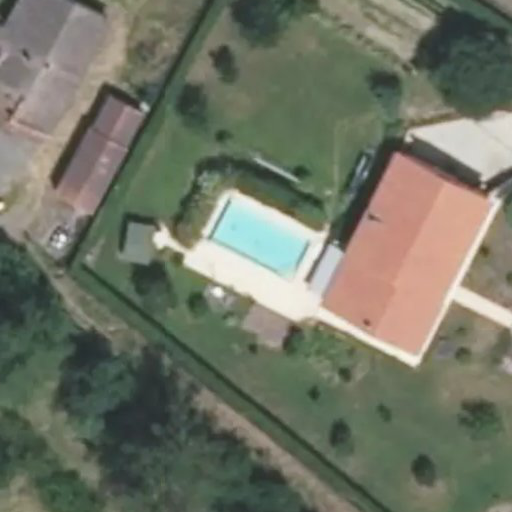pool: (202, 241, 305, 246)
